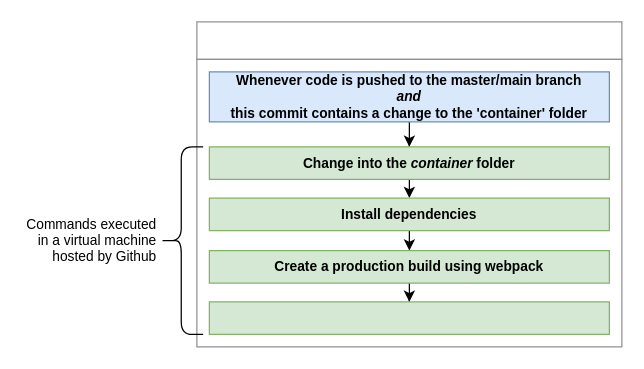
This 644x369 diagram has some shape labels left out. The box of each missing label's shape, as (x1, y1, x2, y2) in pixels:
Upload the result to AWS S3: (208, 301, 609, 334)
Workflow For Deploying Container: (196, 21, 622, 59)
